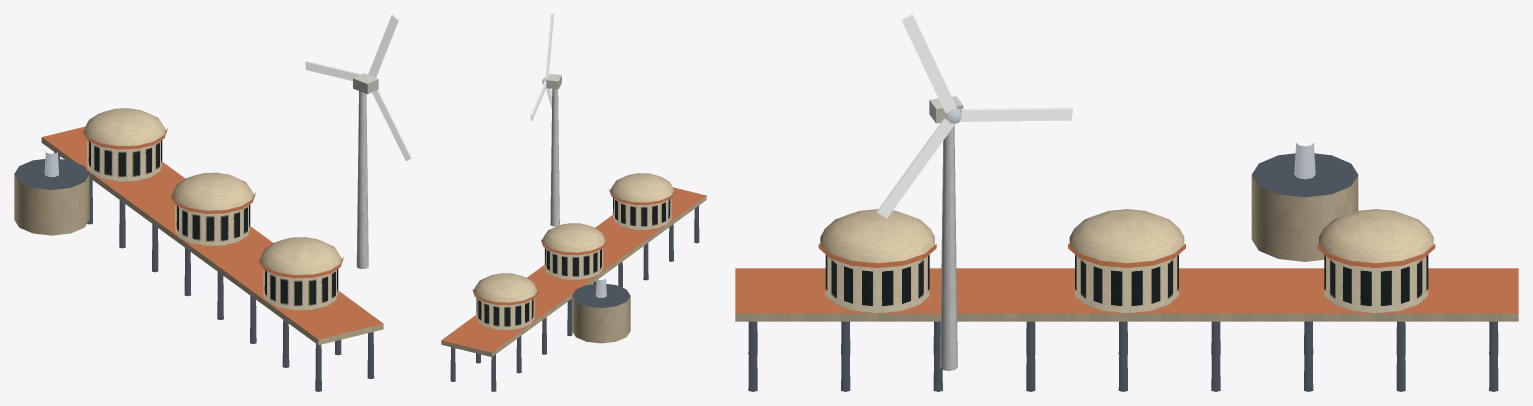
The model's file is titan_lake_village.glb.
3 views of the same model, side by side, from view 1: azimuth 30°, elevation 25°; view 2: azimuth 150°, elevation 25°; view 3: azimuth 270°, elevation 25° (orthographic). The views are drawn at different scales.
Visible parts, largest first — view 1: titan_lake_village_LOD0; view 2: titan_lake_village_LOD0; view 3: titan_lake_village_LOD0.
Boxes of the visible parts, bbox=[...] form: titan_lake_village_LOD0: bbox=[14, 14, 412, 391]; titan_lake_village_LOD0: bbox=[441, 14, 706, 391]; titan_lake_village_LOD0: bbox=[735, 14, 1518, 391].
Size of what is drawn, in the model's own units: 22.29 by 26.59 by 44.
Materials: 3 (3 with a texture image).
